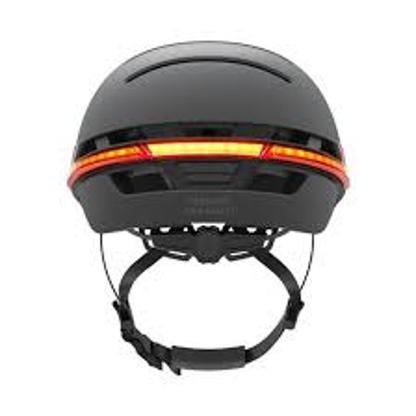not trash: (71, 39, 352, 372)
